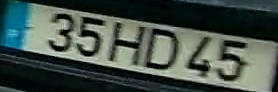3: (46, 10, 76, 53)
4: (183, 33, 212, 79)
5: (214, 36, 250, 84), (74, 13, 106, 58)
D: (142, 26, 180, 71)
H: (106, 19, 147, 68)
